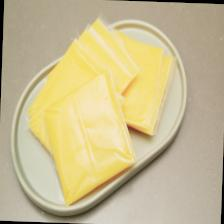cheese: (39, 65, 140, 210)
